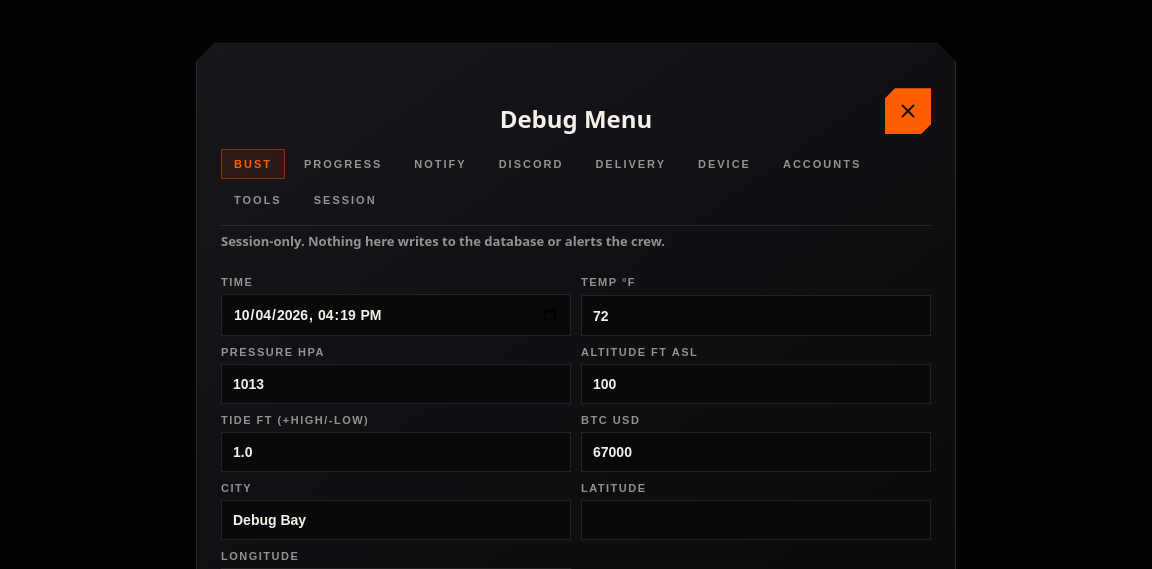
Test: DebugMenu › renders the broadcast preview with the tokens filled in
Step 1. Click the tab "NOTIFY" → [440, 164], box [401, 149, 480, 179]
(page scrolled)
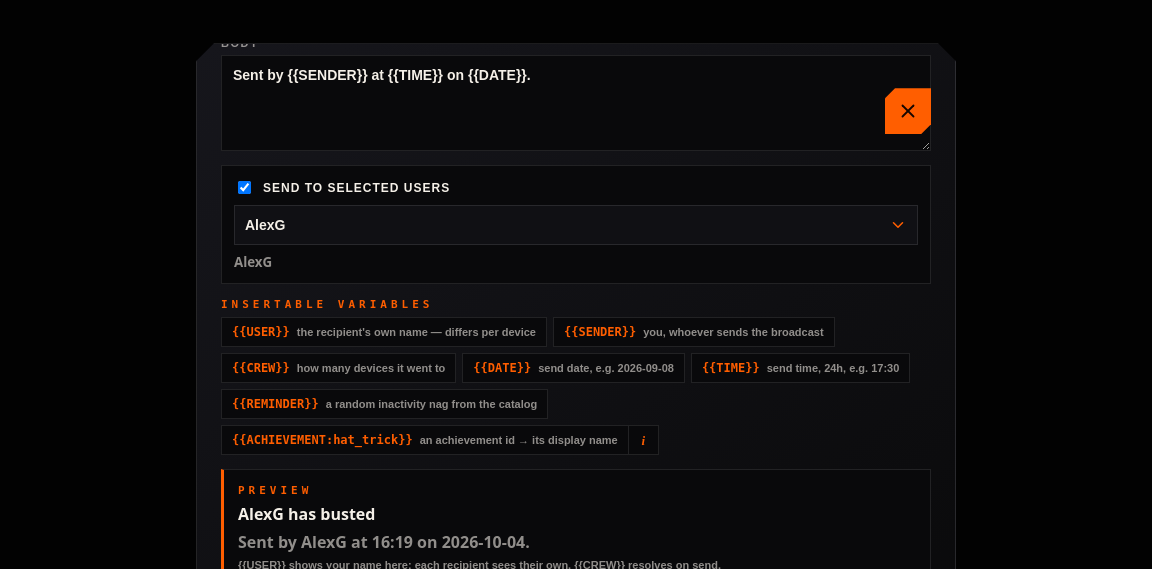
Check: the text "AlexG has busted" is shown, box [238, 503, 376, 525]
